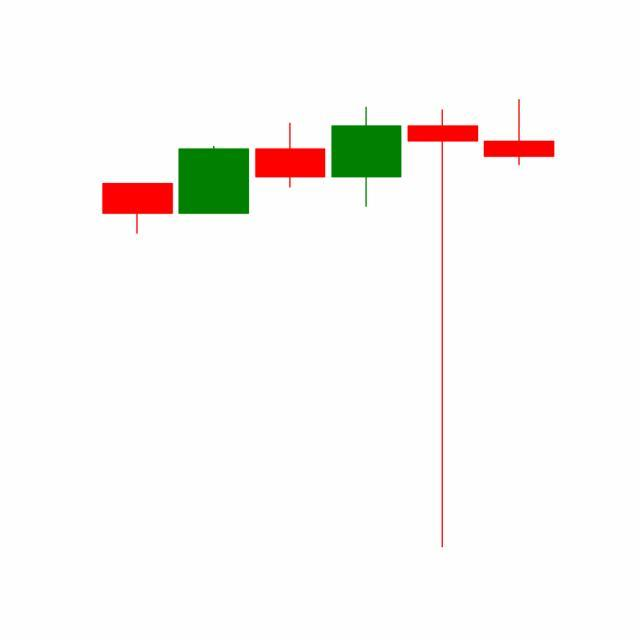Spinning Top: (404, 106, 482, 554)
